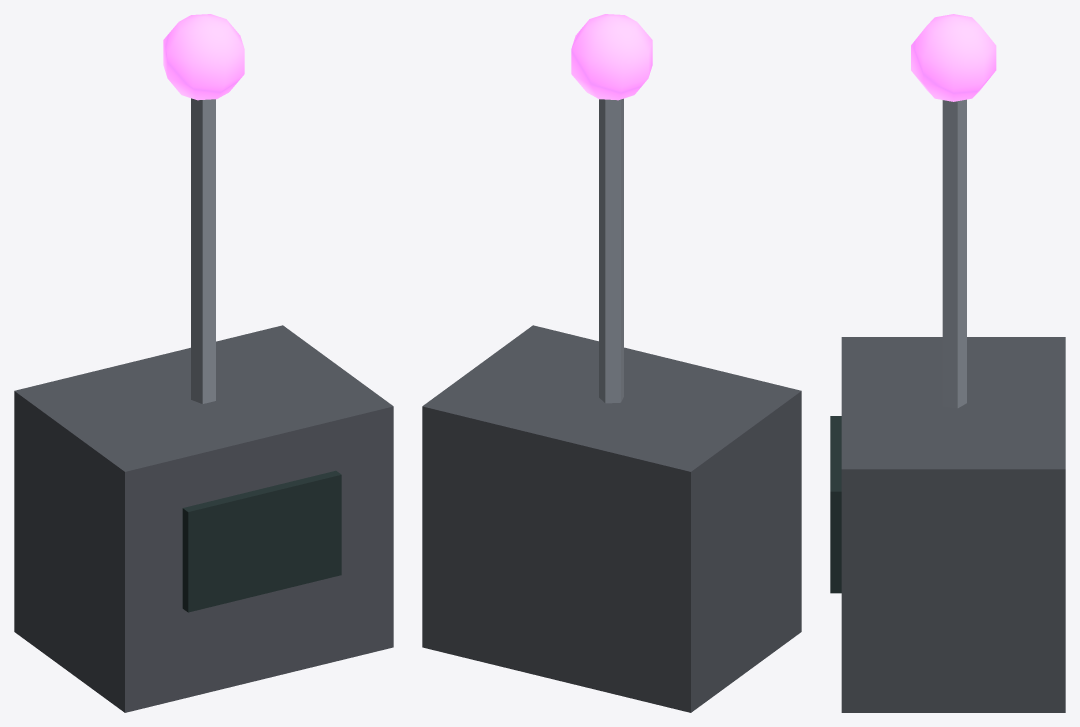
The model's file is Prop_Detector_C.fbx.
The picture shows the model from 3 angles, left to right: view 1: azimuth 30°, elevation 25°; view 2: azimuth 150°, elevation 25°; view 3: azimuth 270°, elevation 25°; orthographic projection.
Visible parts, largest first — view 1: Prop_Detector_C; view 2: Prop_Detector_C; view 3: Prop_Detector_C.
Boxes of the visible parts, x1,y1,x2,y2 form: Prop_Detector_C: (14,14,393,712); Prop_Detector_C: (422,14,801,712); Prop_Detector_C: (830,14,1065,712).
Bounding box in the file's own units: 0.07 × 0.155 × 0.0525.
